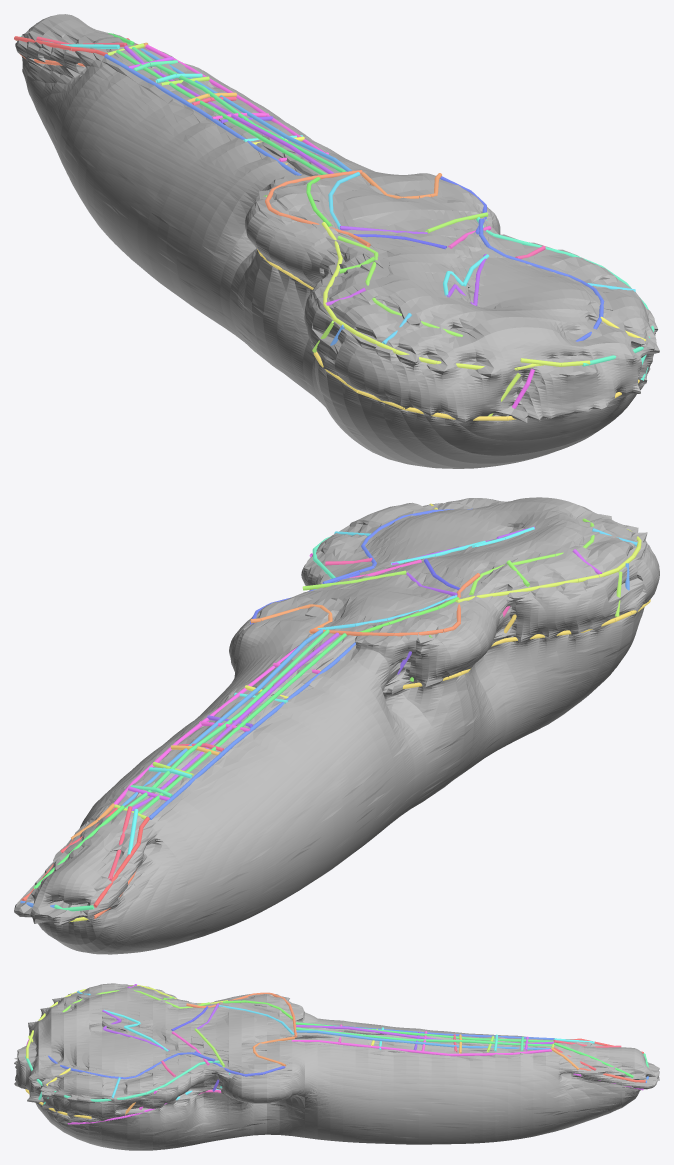
The model's file is author2_guitar.gltf.
The picture shows the model from 3 angles, top to bottom: view 1: azimuth 30°, elevation 25°; view 2: azimuth 150°, elevation 25°; view 3: azimuth 270°, elevation 25°; orthographic projection. The views are drawn at different scales.
Size of the model in its own units: 0.3307 by 0.17 by 0.9659.
